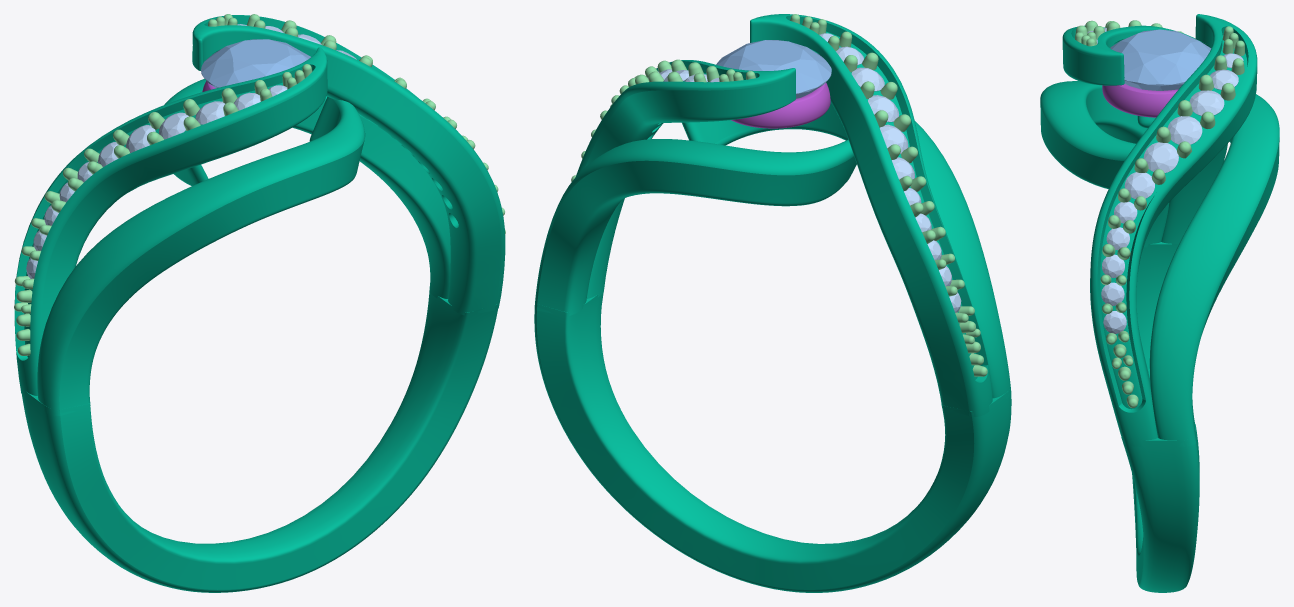
3 renders of one model, left to right at view 1: azimuth 30°, elevation 25°; view 2: azimuth 150°, elevation 25°; view 3: azimuth 270°, elevation 25°, orthographic.
Visible parts, largest first — view 1: uploads_files_4171434_Royal+lap+Stones.3dm, Diamond_Round; view 2: uploads_files_4171434_Royal+lap+Stones.3dm, Diamond_Round, Head Rail; view 3: uploads_files_4171434_Royal+lap+Stones.3dm, Diamond_Round (×11), Head Rail.
Part boxes in pixels (x1,y1,x2,y2): uploads_files_4171434_Royal+lap+Stones.3dm: (14,15,505,592); Diamond_Round: (201,39,310,88); uploads_files_4171434_Royal+lap+Stones.3dm: (534,14,1011,592); Diamond_Round: (716,40,831,98); Head Rail: (731,82,830,128); uploads_files_4171434_Royal+lap+Stones.3dm: (1040,14,1279,592); Diamond_Round (×11): (1101,29,1238,333); Head Rail: (1102,84,1178,117).
Size of the model in its own units: 2.53 by 2.87 by 1.16.
